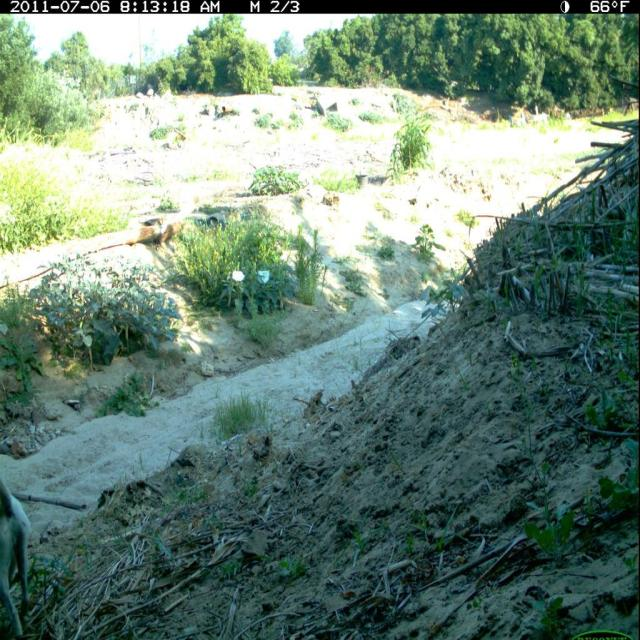dog: (1, 475, 42, 634)
